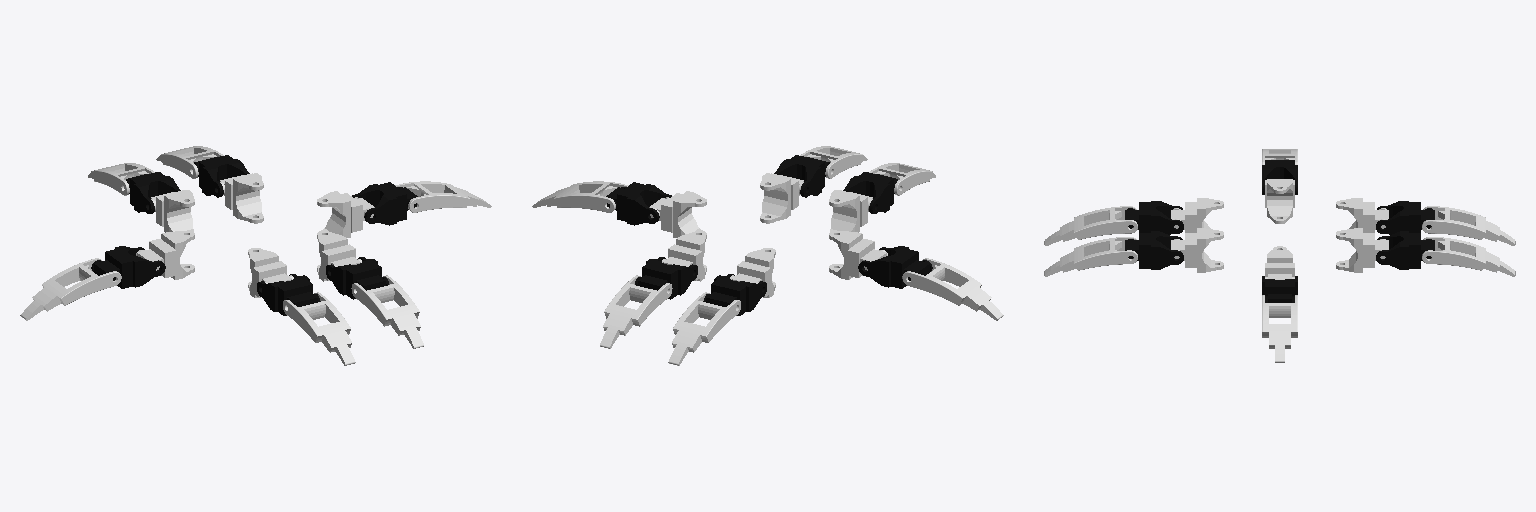
URDF robot description (hexapod_robot):
<?xml version="1.0"?>
<robot name="hexapod_robot">
    
    <!-- Base Link (Chassis) -->
    <link name="base_link">
        <visual>
            <origin xyz="0 0 0" rpy="0 0 0"/>
            <geometry>
                <mesh filename="package://robot_urdf/meshes/base_link.stl" scale="1 1 1"/>
            </geometry>
            <material name="black">
                <color rgba="0.1 0.1 0.1 1"/>
            </material>
        </visual>
        <collision>
            <geometry>
                <mesh filename="package://robot_urdf/meshes/base_link.stl" scale="1 1 1"/>
            </geometry>
        </collision>
        <inertial>
            <mass value="1.64932704"/>
            <inertia ixx="0.00743093" ixy="0.00003990" ixz="-0.00023108" iyy="0.00755492" iyz="0.00010952" izz="0.01279979"/>
        </inertial>
    </link>
    
    <!-- chain 1 start -->
    <!-- joint 11 -->
    <joint name="joint_11" type="revolute">
        <parent link="base_link"/>
        <child link="thigh_link_11"/>
        <origin xyz="-0.06402054275 0.11088683276 0.028165" rpy="0 0 0"/>  <!-- Position relative to parent -->
        <axis xyz="0 0 1"/>
        <limit lower="-1.0472" upper="2.0944" effort="4.5" velocity="3.0"/>
    </joint>

    <!-- Thigh Link 11 -->
    <link name="thigh_link_11">
        <visual>
            <origin xyz="0 0 0" rpy="0 0 0"/>
            <geometry>
                <mesh filename="package://robot_urdf/meshes/thigh_link_14.stl" scale="1 1 1"/>
            </geometry>
            <material name="white">
                <color rgba="0.9 0.9 0.9 1"/>
            </material>
        </visual>
        <collision>
            <geometry>
                <mesh filename="package://robot_urdf/meshes/thigh_link_14.stl" scale="1 1 1"/>
            </geometry>
        </collision>
        <inertial>
            <mass value="0.13695392"/>
            <inertia ixx="0.00008188" ixy="0.00000025" ixz="0" iyy="0.00005137" iyz="0.00000016" izz="0.00007680"/>
        </inertial>
    </link>

    <!-- joint 12 -->
    <joint name="joint_12" type="revolute">
        <parent link="thigh_link_11"/>
        <child link="shin_link_12"/>
        <origin xyz="0 0.07109 0" rpy="0 0 0"/>  <!-- Position relative to parent -->
        <axis xyz="1 0 0"/>
        <limit lower="-1.5712" upper="1.5712" effort="4.5" velocity="3.0"/>
    </joint>

    <!-- Shin Link 12 -->
    <link name="shin_link_12">
        <visual>
            <origin xyz="0 0 0" rpy="0 0 0"/>
            <geometry>
                <mesh filename="package://robot_urdf/meshes/shin_link_14.stl" scale="1 1 1"/>
            </geometry>
            <material name="white">
                <color rgba="0.1 0.1 0.1 1"/>
            </material>
        </visual>
        <collision>
            <geometry>
                <mesh filename="package://robot_urdf/meshes/shin_link_14.stl" scale="1 1 1"/>
            </geometry>
        </collision>
        <inertial>
            <mass value="0.15177213"/>
            <inertia ixx="0.00008751" ixy="0.00000046" ixz="0" iyy="0.00006200" iyz="0" izz="0.00012088"/>
        </inertial>
    </link>

    <!-- joint 13 -->
    <joint name="joint_13" type="revolute">
        <parent link="shin_link_12"/>
        <child link="foot_link_13"/>
        <origin xyz="0 0.08109 0" rpy="0 0 0"/>  <!-- Position relative to parent -->
        <axis xyz="1 0 0"/>
        <limit lower="-1.5712" upper="1.5712" effort="4.5" velocity="3.0"/>
    </joint>

    <!-- Foot Link 13 -->
    <link name="foot_link_13">
        <visual>
            <origin xyz="0 0 0" rpy="0 0 0"/>
            <geometry>
                <mesh filename="package://robot_urdf/meshes/foot_link_14.stl" scale="1 1 1"/>
            </geometry>
            <material name="white">
                <color rgba="0.9 0.9 0.9 1"/>
            </material>
        </visual>
        <collision>
            <geometry>
                <mesh filename="package://robot_urdf/meshes/foot_link_14.stl" scale="1 1 1"/>
            </geometry>
        </collision>
        <inertial>
            <mass value="0.08684425"/>
            <inertia ixx="0.00013083" ixy="0.00000021" ixz="-0.00000003" iyy="0.00004844" iyz="-0.00003099" izz="0.00015571"/>
        </inertial>
    </link>
    <!-- chain 1 end -->

    <!-- chain 4 start -->
    <!-- joint 41 -->
    <joint name="joint_41" type="revolute">
        <parent link="base_link"/>
        <child link="thigh_link_41"/>
        <origin xyz="0.06402054275 0.11088683276 0.028165" rpy="0 0 0"/>  <!-- Position relative to parent -->
        <axis xyz="0 0 1"/>
        <limit lower="-2.0944" upper="1.0472" effort="4.5" velocity="3.0"/>
    </joint>

    <!-- Thigh Link 41 -->
    <link name="thigh_link_41">
        <visual>
            <origin xyz="0 0 0" rpy="0 0 0"/>
            <geometry>
                <mesh filename="package://robot_urdf/meshes/thigh_link_14.stl" scale="1 1 1"/>
            </geometry>
            <material name="white">
                <color rgba="0.9 0.9 0.9 1"/>
            </material>
        </visual>
        <collision>
            <geometry>
                <mesh filename="package://robot_urdf/meshes/thigh_link_14.stl" scale="1 1 1"/>
            </geometry>
        </collision>
        <inertial>
            <mass value="0.13695392"/>
            <inertia ixx="0.00008188" ixy="0.00000025" ixz="0" iyy="0.00005137" iyz="0.00000016" izz="0.00007680"/>
        </inertial>
    </link>

    <!-- joint 42 -->
    <joint name="joint_42" type="revolute">
        <parent link="thigh_link_41"/>
        <child link="shin_link_42"/>
        <origin xyz="0 0.07109 0" rpy="0 0 0"/>  <!-- Position relative to parent -->
        <axis xyz="1 0 0"/>
        <limit lower="-1.5712" upper="1.5712" effort="4.5" velocity="3.0"/>
    </joint>

    <!-- Shin Link 42 -->
    <link name="shin_link_42">
        <visual>
            <origin xyz="0 0 0" rpy="0 0 0"/>
            <geometry>
                <mesh filename="package://robot_urdf/meshes/shin_link_14.stl" scale="1 1 1"/>
            </geometry>
            <material name="white">
                <color rgba="0.1 0.1 0.1 1"/>
            </material>
        </visual>
        <collision>
            <geometry>
                <mesh filename="package://robot_urdf/meshes/shin_link_14.stl" scale="1 1 1"/>
            </geometry>
        </collision>
        <inertial>
            <mass value="0.15177213"/>
            <inertia ixx="0.00008751" ixy="0.00000046" ixz="0" iyy="0.00006200" iyz="0" izz="0.00012088"/>
        </inertial>
    </link>

    <!-- joint 43 -->
    <joint name="joint_43" type="revolute">
        <parent link="shin_link_42"/>
        <child link="foot_link_43"/>
        <origin xyz="0 0.08109 0" rpy="0 0 0"/>  <!-- Position relative to parent -->
        <axis xyz="1 0 0"/>
        <limit lower="-1.5712" upper="1.5712" effort="4.5" velocity="3.0"/>
    </joint>

    <!-- Foot Link 43 -->
    <link name="foot_link_43">
        <visual>
            <origin xyz="0 0 0" rpy="0 0 0"/>
            <geometry>
                <mesh filename="package://robot_urdf/meshes/foot_link_14.stl" scale="1 1 1"/>
            </geometry>
            <material name="white">
                <color rgba="0.9 0.9 0.9 1"/>
            </material>
        </visual>
        <collision>
            <geometry>
                <mesh filename="package://robot_urdf/meshes/foot_link_14.stl" scale="1 1 1"/>
            </geometry>
        </collision>
        <inertial>
            <mass value="0.08684425"/>
            <inertia ixx="0.00013083" ixy="0.00000021" ixz="-0.00000003" iyy="0.00004844" iyz="-0.00003099" izz="0.00015571"/>
        </inertial>
    </link>
    <!-- chain 4 end -->

    <!-- chain 2 start -->
    <!-- joint 21 -->
    <joint name="joint_21" type="revolute">
        <parent link="base_link"/>
        <child link="thigh_link_21"/>
        <origin xyz="-0.12804108549 0 0.028165" rpy="0 0 0"/>  <!-- Position relative to parent -->
        <axis xyz="0 0 1"/>
        <limit lower="-1.5712" upper="1.5712" effort="4.5" velocity="3.0"/>
    </joint>

    <!-- Thigh Link 21 -->
    <link name="thigh_link_21">
        <visual>
            <origin xyz="0 0 0" rpy="0 0 0"/>
            <geometry>
                <mesh filename="package://robot_urdf/meshes/thigh_link_2.stl" scale="1 1 1"/>
            </geometry>
            <material name="white">
                <color rgba="0.9 0.9 0.9 1"/>
            </material>
        </visual>
        <collision>
            <geometry>
                <mesh filename="package://robot_urdf/meshes/thigh_link_2.stl" scale="1 1 1"/>
            </geometry>
        </collision>
        <inertial>
            <mass value="0.13695392"/>
            <inertia ixx="0.00008188" ixy="0.00000025" ixz="0" iyy="0.00005137" iyz="0.00000016" izz="0.00007680"/>
        </inertial>
    </link>

    <!-- joint 22 -->
    <joint name="joint_22" type="revolute">
        <parent link="thigh_link_21"/>
        <child link="shin_link_22"/>
        <origin xyz="-0.07109 0 0" rpy="0 0 0"/>  <!-- Position relative to parent -->
        <axis xyz="0 1 0"/>
        <limit lower="-1.5712" upper="1.5712" effort="4.5" velocity="3.0"/>
    </joint>

    <!-- Shin Link 22 -->
    <link name="shin_link_22">
        <visual>
            <origin xyz="0 0 0" rpy="0 0 0"/>
            <geometry>
                <mesh filename="package://robot_urdf/meshes/shin_link_2.stl" scale="1 1 1"/>
            </geometry>
            <material name="white">
                <color rgba="0.1 0.1 0.1 1"/>
            </material>
        </visual>
        <collision>
            <geometry>
                <mesh filename="package://robot_urdf/meshes/shin_link_2.stl" scale="1 1 1"/>
            </geometry>
        </collision>
        <inertial>
            <mass value="0.15177213"/>
            <inertia ixx="0.00008751" ixy="0.00000046" ixz="0" iyy="0.00006200" iyz="0" izz="0.00012088"/>
        </inertial>
    </link>

    <!-- joint 23 -->
    <joint name="joint_23" type="revolute">
        <parent link="shin_link_22"/>
        <child link="foot_link_23"/>
        <origin xyz="-0.08109 0 0" rpy="0 0 0"/>  <!-- Position relative to parent -->
        <axis xyz="0 1 0"/>
        <limit lower="-1.5712" upper="1.5712" effort="4.5" velocity="3.0"/>
    </joint>

    <!-- Foot Link 23 -->
    <link name="foot_link_23">
        <visual>
            <origin xyz="0 0 0" rpy="0 0 0"/>
            <geometry>
                <mesh filename="package://robot_urdf/meshes/foot_link_2.stl" scale="1 1 1"/>
            </geometry>
            <material name="white">
                <color rgba="0.9 0.9 0.9 1"/>
            </material>
        </visual>
        <collision>
            <geometry>
                <mesh filename="package://robot_urdf/meshes/foot_link_2.stl" scale="1 1 1"/>
            </geometry>
        </collision>
        <inertial>
            <mass value="0.08684425"/>
            <inertia ixx="0.00013083" ixy="0.00000021" ixz="-0.00000003" iyy="0.00004844" iyz="-0.00003099" izz="0.00015571"/>
        </inertial>
    </link>
    <!-- chain 2 end -->

    <!-- chain 5 start -->
    <!-- joint 51 -->
    <joint name="joint_51" type="revolute">
        <parent link="base_link"/>
        <child link="thigh_link_51"/>
        <origin xyz="0.12804108549 0 0.028165" rpy="0 0 0"/>  <!-- Position relative to parent -->
        <axis xyz="0 0 1"/>
        <limit lower="-1.5712" upper="1.5712" effort="4.5" velocity="3.0"/>
    </joint>

    <!-- Thigh Link 51 -->
    <link name="thigh_link_51">
        <visual>
            <origin xyz="0 0 0" rpy="0 0 0"/>
            <geometry>
                <mesh filename="package://robot_urdf/meshes/thigh_link_5.stl" scale="1 1 1"/>
            </geometry>
            <material name="white">
                <color rgba="0.9 0.9 0.9 1"/>
            </material>
        </visual>
        <collision>
            <geometry>
                <mesh filename="package://robot_urdf/meshes/thigh_link_5.stl" scale="1 1 1"/>
            </geometry>
        </collision>
        <inertial>
            <mass value="0.13695392"/>
            <inertia ixx="0.00008188" ixy="0.00000025" ixz="0" iyy="0.00005137" iyz="0.00000016" izz="0.00007680"/>
        </inertial>
    </link>

    <!-- joint 52 -->
    <joint name="joint_52" type="revolute">
        <parent link="thigh_link_51"/>
        <child link="shin_link_52"/>
        <origin xyz="0.07109 0 0" rpy="0 0 0"/>  <!-- Position relative to parent -->
        <axis xyz="0 1 0"/>
        <limit lower="-1.5712" upper="1.5712" effort="4.5" velocity="3.0"/>
    </joint>

    <!-- Shin Link 52 -->
    <link name="shin_link_52">
        <visual>
            <origin xyz="0 0 0" rpy="0 0 0"/>
            <geometry>
                <mesh filename="package://robot_urdf/meshes/shin_link_5.stl" scale="1 1 1"/>
            </geometry>
            <material name="white">
                <color rgba="0.1 0.1 0.1 1"/>
            </material>
        </visual>
        <collision>
            <geometry>
                <mesh filename="package://robot_urdf/meshes/shin_link_5.stl" scale="1 1 1"/>
            </geometry>
        </collision>
        <inertial>
            <mass value="0.15177213"/>
            <inertia ixx="0.00008751" ixy="0.00000046" ixz="0" iyy="0.00006200" iyz="0" izz="0.00012088"/>
        </inertial>
    </link>

    <!-- joint 53 -->
    <joint name="joint_53" type="revolute">
        <parent link="shin_link_52"/>
        <child link="foot_link_53"/>
        <origin xyz="0.08109 0 0" rpy="0 0 0"/>  <!-- Position relative to parent -->
        <axis xyz="0 1 0"/>
        <limit lower="-1.5712" upper="1.5712" effort="4.5" velocity="3.0"/>
    </joint>

    <!-- Foot Link 53 -->
    <link name="foot_link_53">
        <visual>
            <origin xyz="0 0 0" rpy="0 0 0"/>
            <geometry>
                <mesh filename="package://robot_urdf/meshes/foot_link_5.stl" scale="1 1 1"/>
            </geometry>
            <material name="white">
                <color rgba="0.9 0.9 0.9 1"/>
            </material>
        </visual>
        <collision>
            <geometry>
                <mesh filename="package://robot_urdf/meshes/foot_link_5.stl" scale="1 1 1"/>
            </geometry>
        </collision>
        <inertial>
            <mass value="0.08684425"/>
            <inertia ixx="0.00013083" ixy="0.00000021" ixz="-0.00000003" iyy="0.00004844" iyz="-0.00003099" izz="0.00015571"/>
        </inertial>
    </link>
    <!-- chain 5 end -->

    <!-- chain 6 start -->
    <!-- joint 61 -->
    <joint name="joint_61" type="revolute">
        <parent link="base_link"/>
        <child link="thigh_link_61"/>
        <origin xyz="0.06402054275 -0.11088683276 0.028165" rpy="0 0 0"/>  <!-- Position relative to parent -->
        <axis xyz="0 0 1"/>
        <limit lower="-1.0472" upper="2.0944" effort="4.5" velocity="3.0"/>
    </joint>

    <!-- Thigh Link 61 -->
    <link name="thigh_link_61">
        <visual>
            <origin xyz="0 0 0" rpy="0 0 0"/>
            <geometry>
                <mesh filename="package://robot_urdf/meshes/thigh_link_36.stl" scale="1 1 1"/>
            </geometry>
            <material name="white">
                <color rgba="0.9 0.9 0.9 1"/>
            </material>
        </visual>
        <collision>
            <geometry>
                <mesh filename="package://robot_urdf/meshes/thigh_link_36.stl" scale="1 1 1"/>
            </geometry>
        </collision>
        <inertial>
            <mass value="0.13695392"/>
            <inertia ixx="0.00008188" ixy="0.00000025" ixz="0" iyy="0.00005137" iyz="0.00000016" izz="0.00007680"/>
        </inertial>
    </link>

    <!-- joint 62 -->
    <joint name="joint_62" type="revolute">
        <parent link="thigh_link_61"/>
        <child link="shin_link_62"/>
        <origin xyz="0 -0.07109 0" rpy="0 0 0"/>  <!-- Position relative to parent -->
        <axis xyz="1 0 0"/>
        <limit lower="-1.5712" upper="1.5712" effort="4.5" velocity="3.0"/>
    </joint>

    <!-- Shin Link 62 -->
    <link name="shin_link_62">
        <visual>
            <origin xyz="0 0 0" rpy="0 0 0"/>
            <geometry>
                <mesh filename="package://robot_urdf/meshes/shin_link_36.stl" scale="1 1 1"/>
            </geometry>
            <material name="white">
                <color rgba="0.1 0.1 0.1 1"/>
            </material>
        </visual>
        <collision>
            <geometry>
                <mesh filename="package://robot_urdf/meshes/shin_link_36.stl" scale="1 1 1"/>
            </geometry>
        </collision>
        <inertial>
            <mass value="0.15177213"/>
            <inertia ixx="0.00008751" ixy="0.00000046" ixz="0" iyy="0.00006200" iyz="0" izz="0.00012088"/>
        </inertial>
    </link>

    <!-- joint 63 -->
    <joint name="joint_63" type="revolute">
        <parent link="shin_link_62"/>
        <child link="foot_link_63"/>
        <origin xyz="0 -0.08109 0" rpy="0 0 0"/>  <!-- Position relative to parent -->
        <axis xyz="1 0 0"/>
        <limit lower="-1.5712" upper="1.5712" effort="4.5" velocity="3.0"/>
    </joint>

    <!-- Foot Link 63 -->
    <link name="foot_link_63">
        <visual>
            <origin xyz="0 0 0" rpy="0 0 0"/>
            <geometry>
                <mesh filename="package://robot_urdf/meshes/foot_link_36.stl" scale="1 1 1"/>
            </geometry>
            <material name="white">
                <color rgba="0.9 0.9 0.9 1"/>
            </material>
        </visual>
        <collision>
            <geometry>
                <mesh filename="package://robot_urdf/meshes/foot_link_36.stl" scale="1 1 1"/>
            </geometry>
        </collision>
        <inertial>
            <mass value="0.08684425"/>
            <inertia ixx="0.00013083" ixy="0.00000021" ixz="-0.00000003" iyy="0.00004844" iyz="-0.00003099" izz="0.00015571"/>
        </inertial>
    </link>
    <!-- chain 6 end -->

    <!-- chain 3 start -->
    <!-- joint 31 -->
    <joint name="joint_31" type="revolute">
        <parent link="base_link"/>
        <child link="thigh_link_31"/>
        <origin xyz="-0.06402054275 -0.11088683276 0.028165" rpy="0 0 0"/>  <!-- Position relative to parent -->
        <axis xyz="0 0 1"/>
        <limit lower="-2.0944" upper="1.0472" effort="4.5" velocity="3.0"/>
    </joint>

    <!-- Thigh Link 31 -->
    <link name="thigh_link_31">
        <visual>
            <origin xyz="0 0 0" rpy="0 0 0"/>
            <geometry>
                <mesh filename="package://robot_urdf/meshes/thigh_link_36.stl" scale="1 1 1"/>
            </geometry>
            <material name="white">
                <color rgba="0.9 0.9 0.9 1"/>
            </material>
        </visual>
        <collision>
            <geometry>
                <mesh filename="package://robot_urdf/meshes/thigh_link_36.stl" scale="1 1 1"/>
            </geometry>
        </collision>
        <inertial>
            <mass value="0.13695392"/>
            <inertia ixx="0.00008188" ixy="0.00000025" ixz="0" iyy="0.00005137" iyz="0.00000016" izz="0.00007680"/>
        </inertial>
    </link>

    <!-- joint 32 -->
    <joint name="joint_32" type="revolute">
        <parent link="thigh_link_31"/>
        <child link="shin_link_32"/>
        <origin xyz="0 -0.07109 0" rpy="0 0 0"/>  <!-- Position relative to parent -->
        <axis xyz="1 0 0"/>
        <limit lower="-1.5712" upper="1.5712" effort="4.5" velocity="3.0"/>
    </joint>

    <!-- Shin Link 32 -->
    <link name="shin_link_32">
        <visual>
            <origin xyz="0 0 0" rpy="0 0 0"/>
            <geometry>
                <mesh filename="package://robot_urdf/meshes/shin_link_36.stl" scale="1 1 1"/>
            </geometry>
            <material name="white">
                <color rgba="0.1 0.1 0.1 1"/>
            </material>
        </visual>
        <collision>
            <geometry>
                <mesh filename="package://robot_urdf/meshes/shin_link_36.stl" scale="1 1 1"/>
            </geometry>
        </collision>
        <inertial>
            <mass value="0.15177213"/>
            <inertia ixx="0.00008751" ixy="0.00000046" ixz="0" iyy="0.00006200" iyz="0" izz="0.00012088"/>
        </inertial>
    </link>

    <!-- joint 33 -->
    <joint name="joint_33" type="revolute">
        <parent link="shin_link_32"/>
        <child link="foot_link_33"/>
        <origin xyz="0 -0.08109 0" rpy="0 0 0"/>  <!-- Position relative to parent -->
        <axis xyz="1 0 0"/>
        <limit lower="-1.5712" upper="1.5712" effort="4.5" velocity="3.0"/>
    </joint>

    <!-- Foot Link 33 -->
    <link name="foot_link_33">
        <visual>
            <origin xyz="0 0 0" rpy="0 0 0"/>
            <geometry>
                <mesh filename="package://robot_urdf/meshes/foot_link_36.stl" scale="1 1 1"/>
            </geometry>
            <material name="white">
                <color rgba="0.9 0.9 0.9 1"/>
            </material>
        </visual>
        <collision>
            <geometry>
                <mesh filename="package://robot_urdf/meshes/foot_link_36.stl" scale="1 1 1"/>
            </geometry>
        </collision>
        <inertial>
            <mass value="0.08684425"/>
            <inertia ixx="0.00013083" ixy="0.00000021" ixz="-0.00000003" iyy="0.00004844" iyz="-0.00003099" izz="0.00015571"/>
        </inertial>
    </link>
    <!-- chain 3 end -->
    
</robot>

--- Render facts (derived) ---
Views: 3 orthographic renders of the robot side by side, from view 1: azimuth 30°, elevation 25°; view 2: azimuth 150°, elevation 25°; view 3: azimuth 270°, elevation 25°.
Model hexapod_robot with 19 links and 18 joints (18 revolute), rooted at base_link, posed all joints at 0.
Links seen in each view (by area): view 1: foot_link_23, foot_link_33, foot_link_63, shin_link_22, foot_link_53, shin_link_52, thigh_link_41, thigh_link_21, thigh_link_51, shin_link_62, shin_link_32, thigh_link_11 (+6 smaller); view 2: foot_link_23, foot_link_13, foot_link_43, shin_link_22, foot_link_53, shin_link_52, thigh_link_61, thigh_link_21, thigh_link_51, shin_link_42, shin_link_12, thigh_link_31 (+6 smaller); view 3: foot_link_43, foot_link_63, foot_link_13, foot_link_33, foot_link_53, shin_link_42, shin_link_62, thigh_link_41, thigh_link_61, shin_link_12, shin_link_32, thigh_link_21 (+5 smaller).
Link boxes in pixels (x1,y1,x2,y2): foot_link_23: (20, 258, 121, 320); foot_link_33: (283, 292, 355, 365); foot_link_63: (351, 275, 423, 348); shin_link_22: (91, 246, 165, 288); foot_link_53: (395, 181, 491, 212); shin_link_52: (352, 182, 417, 225); thigh_link_41: (220, 173, 263, 223); thigh_link_21: (136, 231, 194, 279); thigh_link_51: (317, 191, 374, 237); shin_link_62: (326, 257, 388, 299); shin_link_32: (257, 274, 320, 315); thigh_link_11: (151, 190, 194, 232); foot_link_23: (902, 258, 1003, 320); foot_link_13: (668, 292, 740, 365); foot_link_43: (600, 275, 672, 348); shin_link_22: (858, 246, 932, 288); foot_link_53: (532, 181, 628, 212); shin_link_52: (606, 182, 671, 225); thigh_link_61: (760, 173, 803, 223); thigh_link_21: (829, 231, 887, 279); thigh_link_51: (649, 191, 706, 237); shin_link_42: (635, 257, 697, 299); shin_link_12: (703, 274, 766, 315); thigh_link_31: (829, 190, 872, 232); foot_link_43: (1422, 237, 1515, 276); foot_link_63: (1044, 237, 1137, 276); foot_link_13: (1422, 206, 1515, 245); foot_link_33: (1044, 206, 1137, 245); foot_link_53: (1262, 295, 1297, 362); shin_link_42: (1376, 231, 1434, 269); shin_link_62: (1125, 231, 1183, 269); thigh_link_41: (1336, 228, 1388, 272); thigh_link_61: (1171, 228, 1223, 272); shin_link_12: (1376, 201, 1434, 234); shin_link_32: (1125, 201, 1183, 234); thigh_link_21: (1265, 179, 1294, 223).
Size in the robot's own frame: 0.8654 by 0.8311 by 0.08 metres.
Meshes: 13 distinct files referenced, 18 mesh visuals loaded (12 binary STL); not drawn: 1 (reference not matched to a file when rendering).
